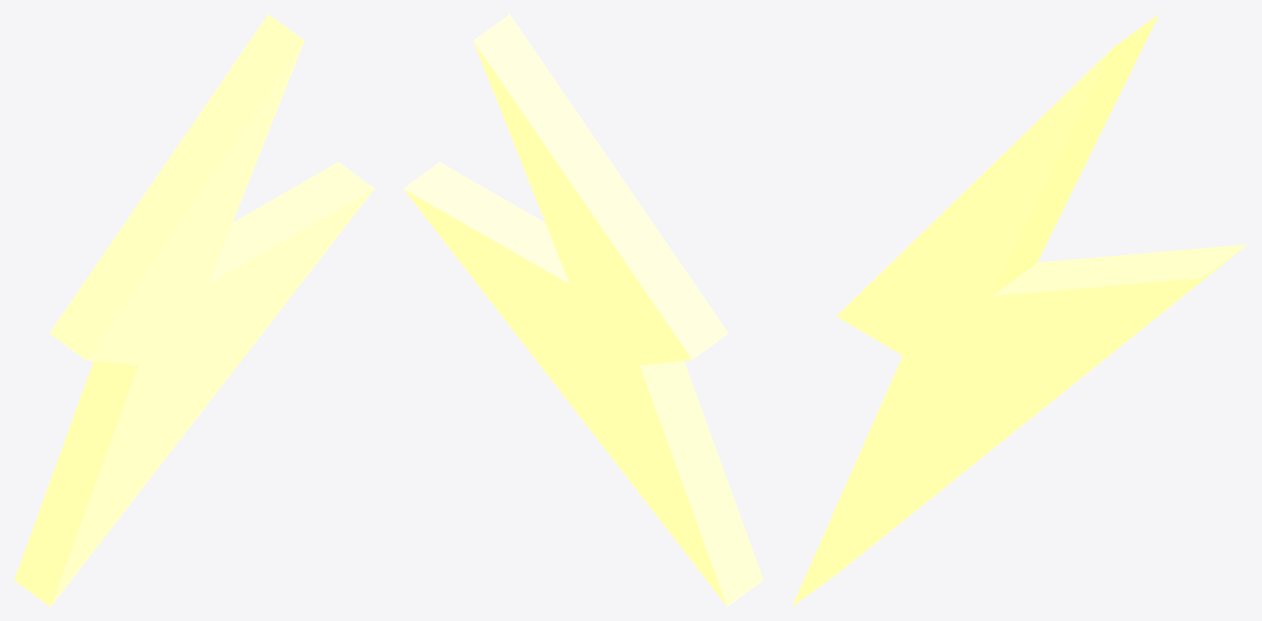
Rendered from SM_JellyCore.fbx.
3 renders of one model, left to right at view 1: azimuth 30°, elevation 25°; view 2: azimuth 150°, elevation 25°; view 3: azimuth 330°, elevation 25°, orthographic. The views are drawn at different scales.
Visible parts, largest first — view 1: SM_JellyCore; view 2: SM_JellyCore; view 3: SM_JellyCore.
Part boxes in pixels (x1=…): SM_JellyCore: x1=14, y1=14, x2=374, y2=606; SM_JellyCore: x1=403, y1=14, x2=763, y2=606; SM_JellyCore: x1=792, y1=14, x2=1247, y2=606.
Bounding box in the file's own units: 18.5 × 3.6 × 27.5.
